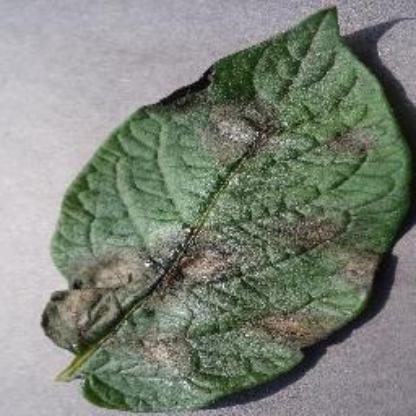Late-Blight: (37, 23, 413, 395)
